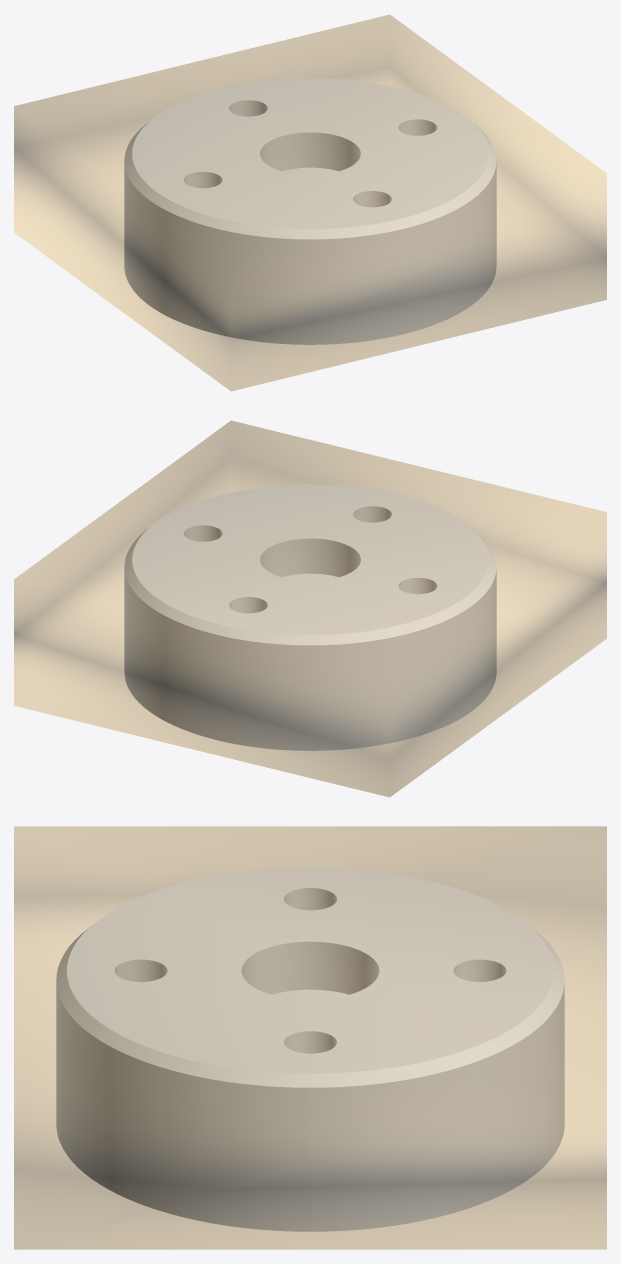
Rendered from result.glb.
The picture shows the model from 3 angles, top to bottom: view 1: azimuth 30°, elevation 25°; view 2: azimuth 150°, elevation 25°; view 3: azimuth 270°, elevation 25°; orthographic projection. The views are drawn at different scales.
Parts seen in each view (by area): view 1: stock, part; view 2: stock, part; view 3: stock, part.
Part boxes in pixels (x1=…): stock: x1=14, y1=14, x2=606, y2=391; part: x1=124, y1=78, x2=496, y2=344; stock: x1=14, y1=420, x2=606, y2=797; part: x1=124, y1=484, x2=496, y2=750; stock: x1=14, y1=826, x2=606, y2=1249; part: x1=56, y1=868, x2=564, y2=1231.
Size of the model in its own units: 0.028 by 0.009 by 0.028.
